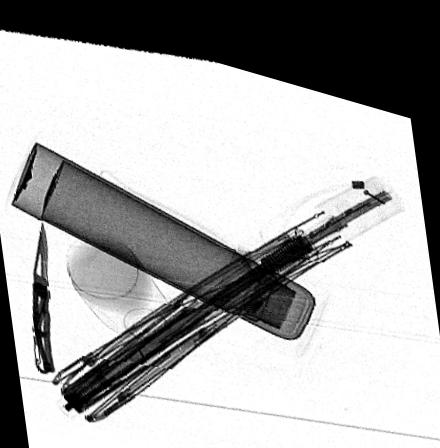Knife: (31, 218, 54, 372)
